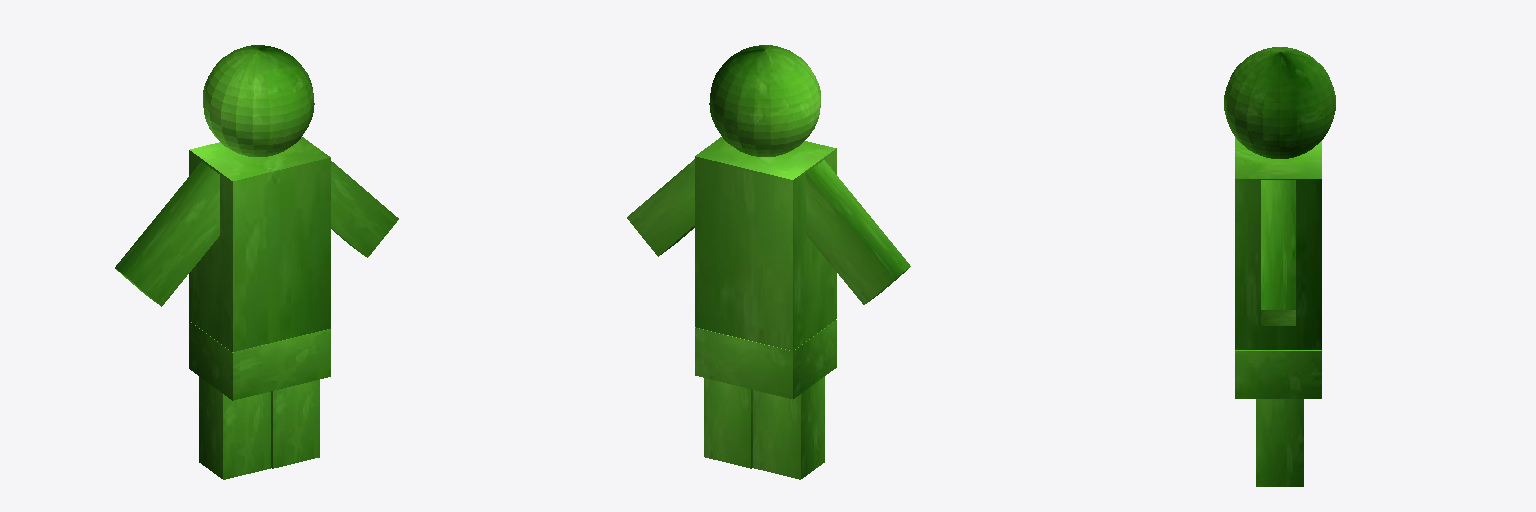
3 renders of one model, left to right at view 1: azimuth 30°, elevation 25°; view 2: azimuth 150°, elevation 25°; view 3: azimuth 270°, elevation 25°, orthographic.
Parts seen in each view (by area): view 1: pCube7; view 2: pCube7; view 3: pCube7.
Boxes of the visible parts, <box> form: pCube7: <box>115,45,398,479</box>; pCube7: <box>627,45,910,479</box>; pCube7: <box>1224,47,1335,486</box>.
Bounding box in the file's own units: 5.3 × 7.77 × 1.93.
1 materials, 1 textured.